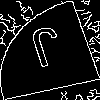J: (25, 25, 71, 77)
